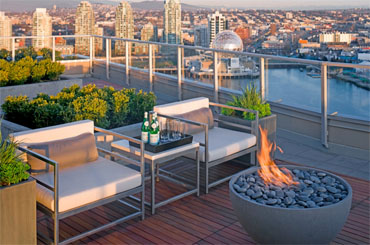fire: (255, 136, 280, 180)
